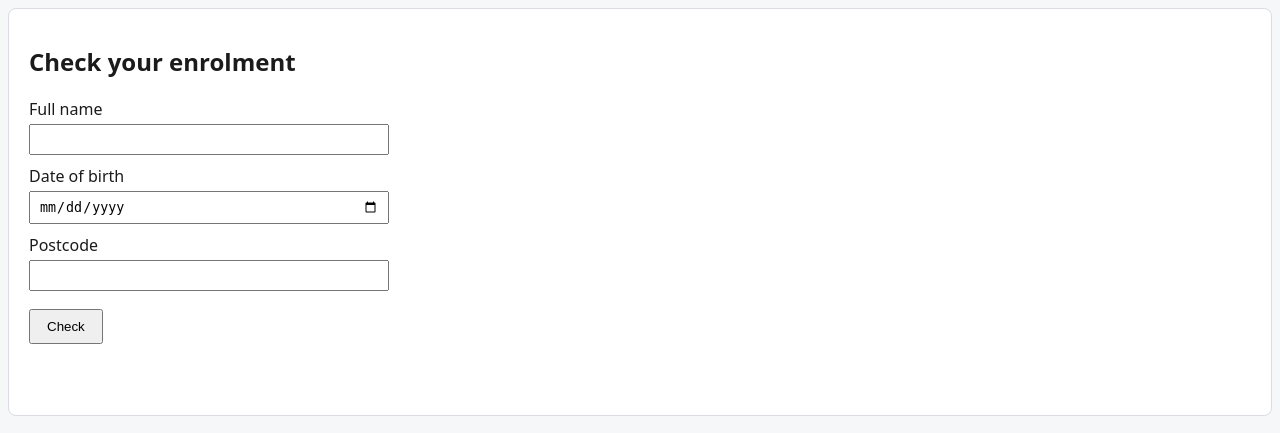
Test case: SEC-08 EnrolmentCheckForm › explains a rate limit
The image size is (1280, 433).
Step 1. Type "Jane Smith" into the field labelled "Full name" → (209, 139), box [29, 124, 389, 155]
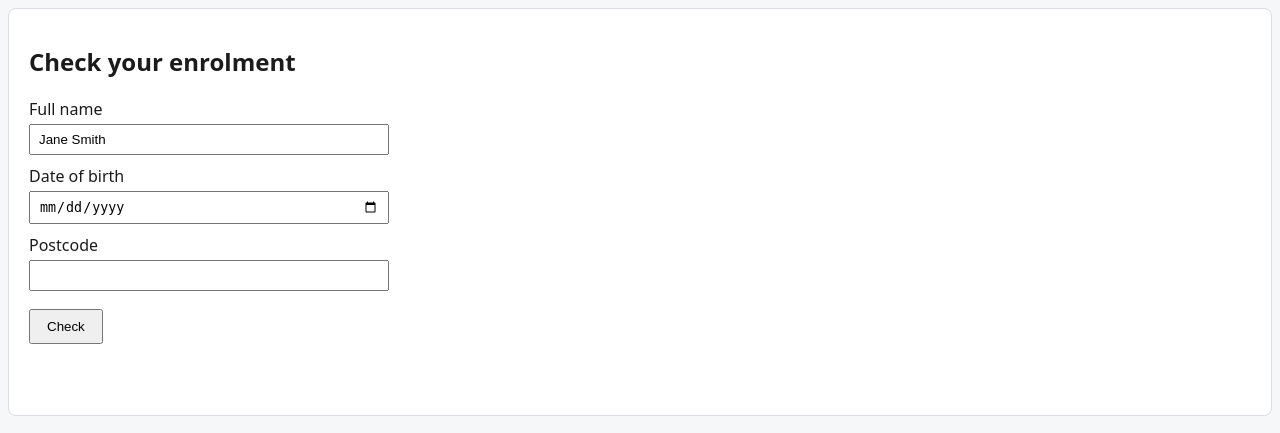
Step 2. Type "1990-01-01" into the date field labelled "Date of birth" → (209, 207), box [29, 191, 389, 224]
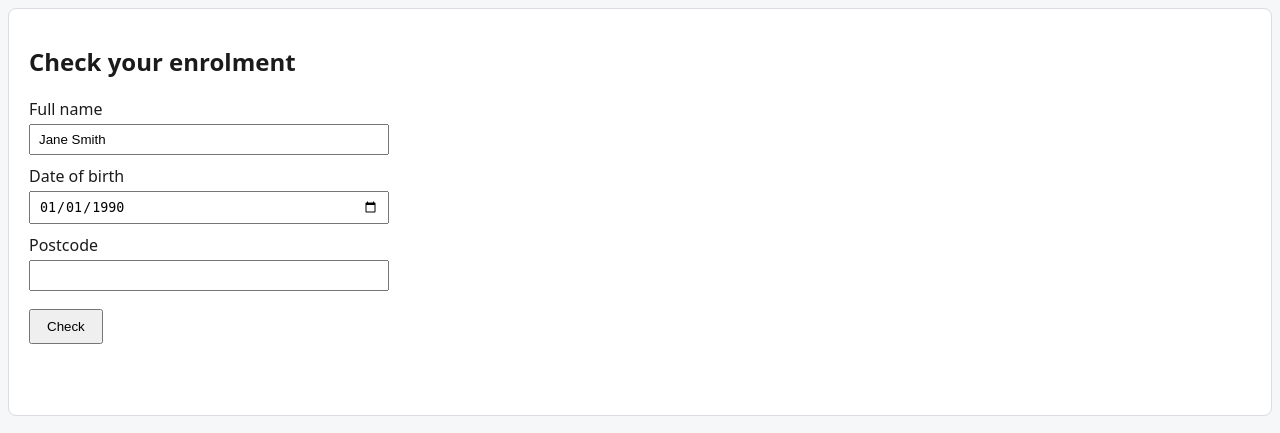
Step 3. Type "3000" into the field labelled "Postcode" → (209, 276), box [29, 260, 389, 291]
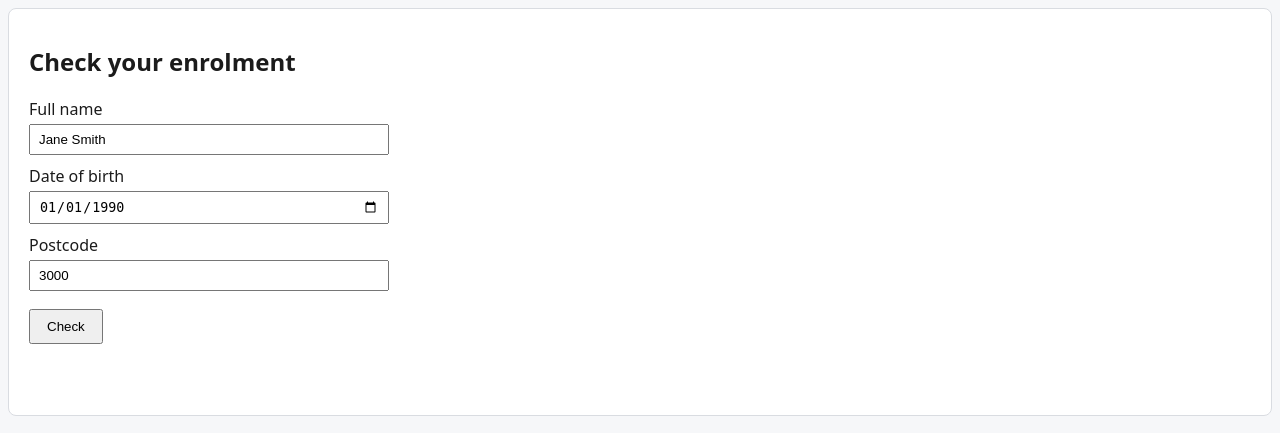
Step 4. Click the button "Check" → (66, 327), box [29, 309, 103, 344]
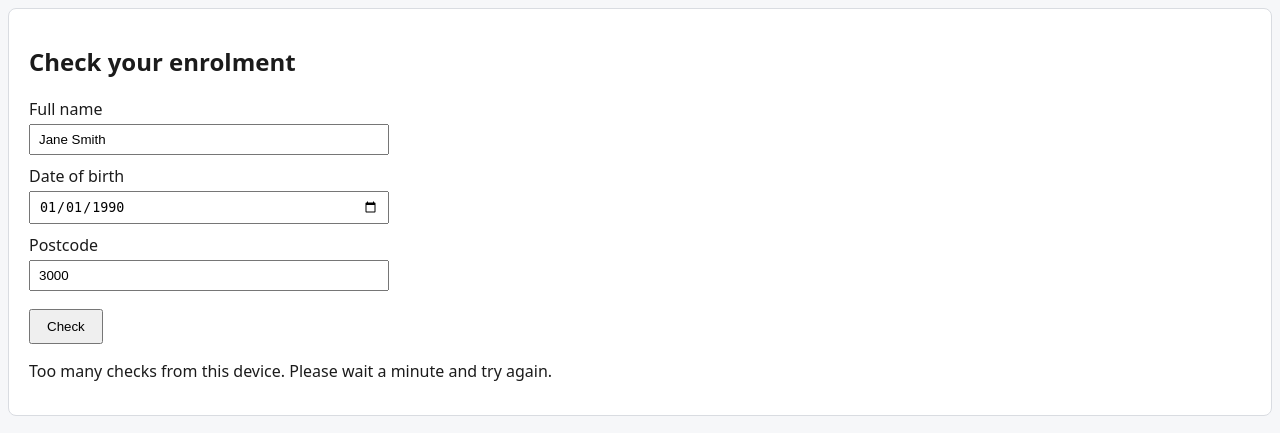
Result: the text "Too many checks from this device. Please wait a minute and try again." is shown at [29, 360, 552, 382]
